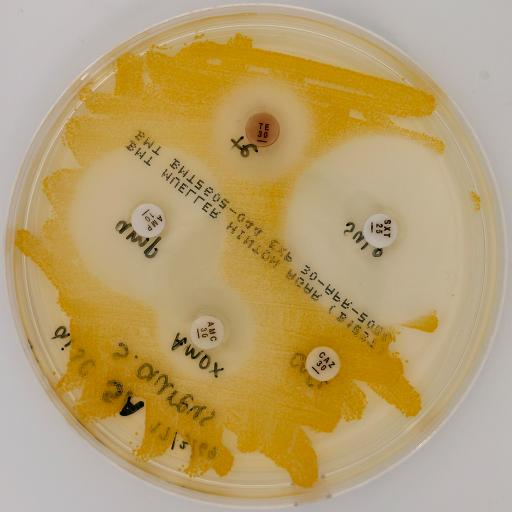disc: (305, 346, 341, 382), (245, 112, 280, 148), (130, 204, 166, 238), (362, 214, 398, 248), (189, 316, 225, 350)
